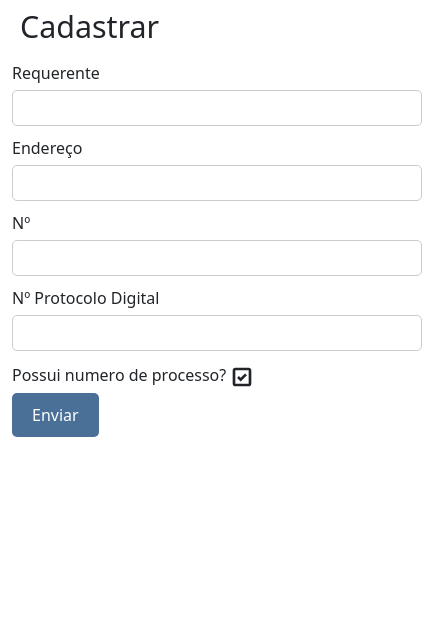
Scenario: show input processo and anexos
This screenshot has width=439, height=619.
Click the icon with test id "icon-processo-input" at (242, 376), box [226, 360, 258, 392]
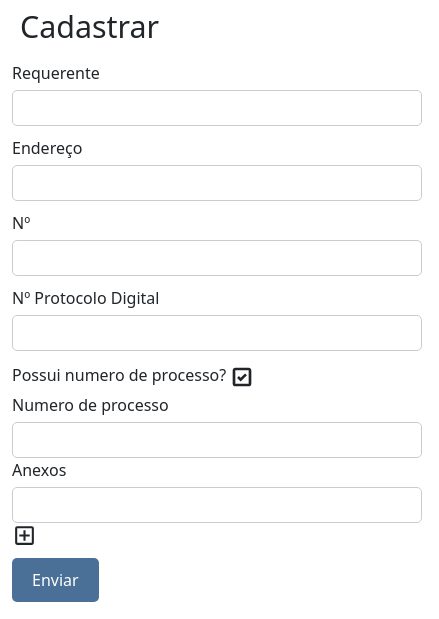
Result: the field labelled "Numero de processo" is shown at [12, 422, 422, 458]
Result: the field labelled "Anexos" is shown at [12, 486, 422, 522]
